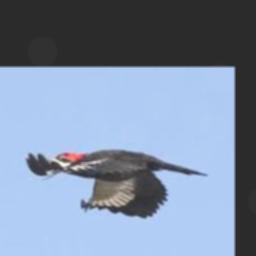Woodpecker: (27, 149, 209, 219)
